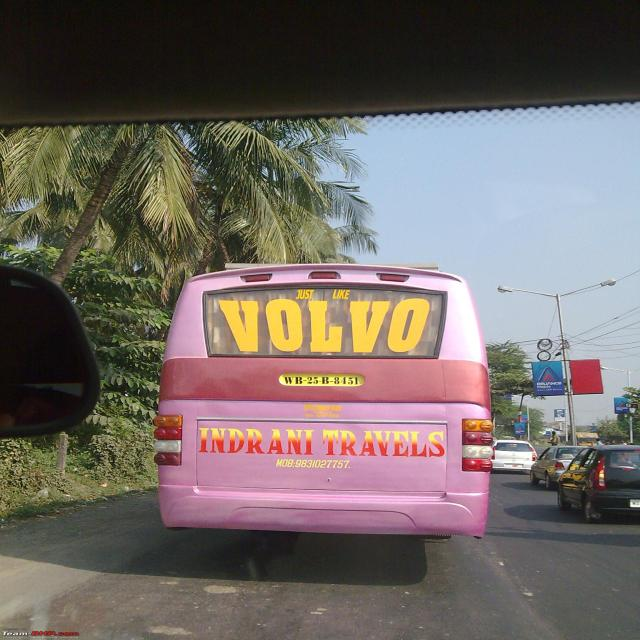bus: (153, 264, 493, 539)
car: (557, 446, 640, 522), (530, 445, 585, 489), (492, 440, 538, 472)
